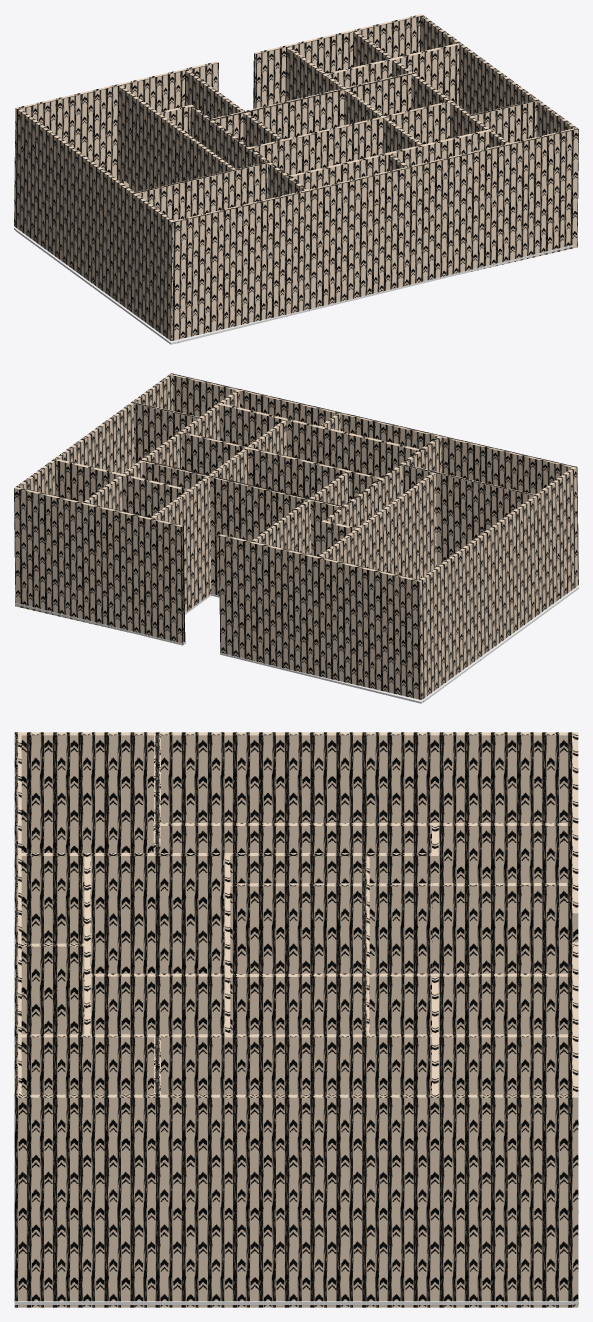
File: paredesuwu.fbx
3 renders of one model, top to bottom at view 1: azimuth 30°, elevation 25°; view 2: azimuth 150°, elevation 25°; view 3: azimuth 270°, elevation 25°, orthographic. The views are drawn at different scales.
Parts seen in each view (by area): view 1: columna_001_57; view 2: columna_001_57; view 3: columna_001_57.
Boxes of the visible parts, x1,y1,x2,y2 form: columna_001_57: [14, 14, 578, 340]; columna_001_57: [14, 373, 578, 699]; columna_001_57: [14, 732, 578, 1307].
Size of the model in its own units: 3649 by 1054 by 2440.
